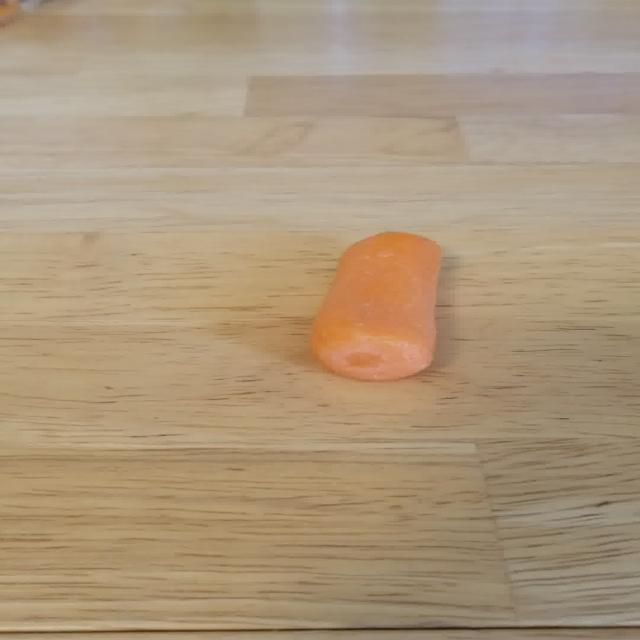carrot: (312, 232, 440, 380)
